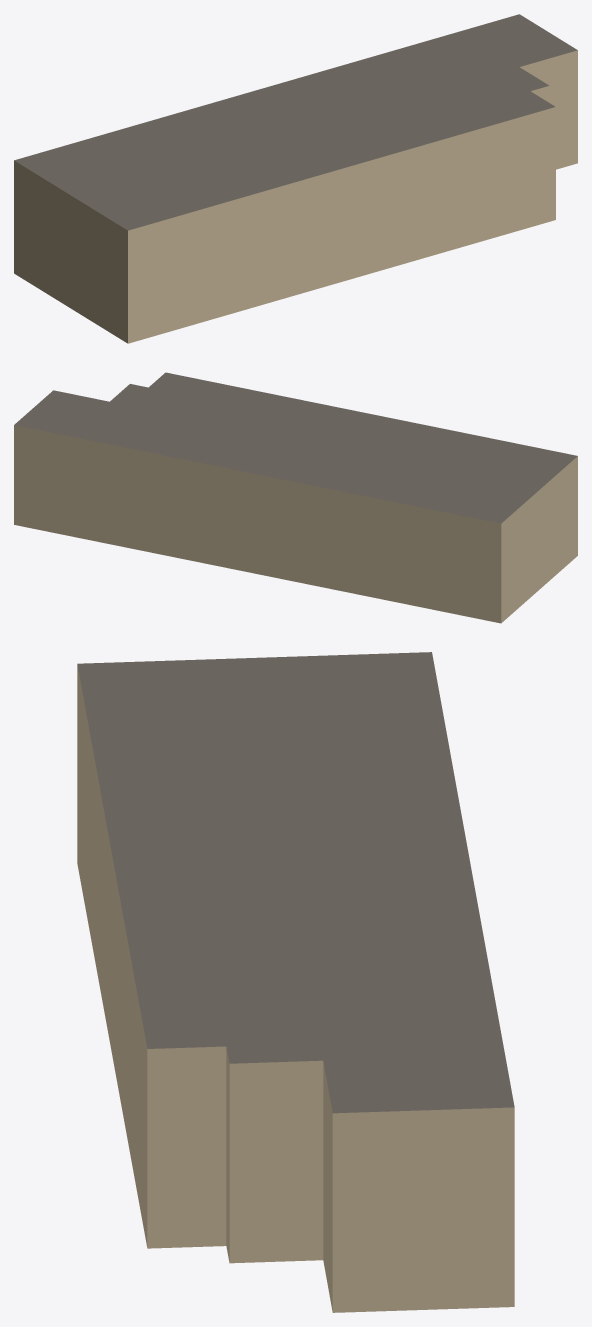
3 renders of one model, top to bottom at view 1: azimuth 30°, elevation 25°; view 2: azimuth 150°, elevation 25°; view 3: azimuth 270°, elevation 25°, orthographic. The views are drawn at different scales.
Parts seen in each view (by area): view 1: HP-w1333613414; view 2: HP-w1333613414; view 3: HP-w1333613414.
Part boxes in pixels (x1,y1,x2,y2): HP-w1333613414: (14, 14, 577, 343); HP-w1333613414: (14, 372, 577, 623); HP-w1333613414: (77, 652, 514, 1312).
Size of the model in its own units: 65.43 by 13.2 by 26.22.
